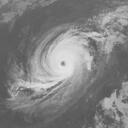cyclone: (28, 24, 98, 95)
